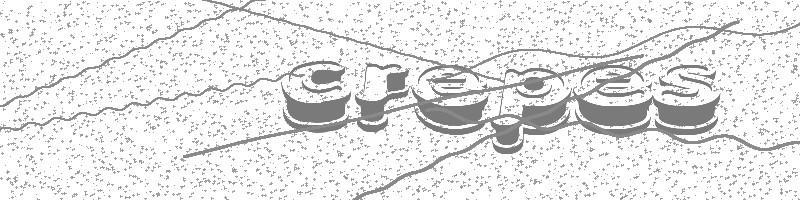c: (281, 60, 352, 134)
e: (572, 63, 653, 136), (412, 64, 487, 135)
p: (489, 67, 571, 155)
r: (355, 63, 410, 133)
s: (653, 64, 721, 136)
